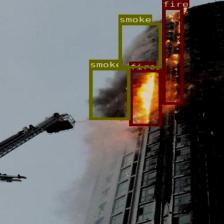fire: (162, 7, 183, 104), (128, 70, 160, 125)
smoke: (88, 68, 130, 120), (118, 22, 161, 68)
